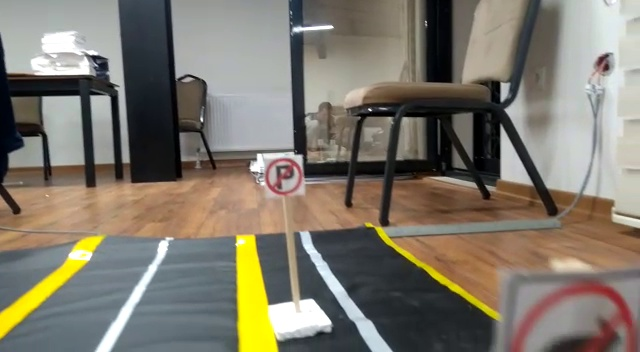park_yapilmaz: (265, 155, 306, 196)
saga_donulmez: (498, 271, 640, 352)
